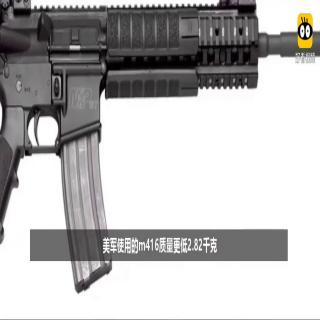gun: (0, 0, 296, 284)
